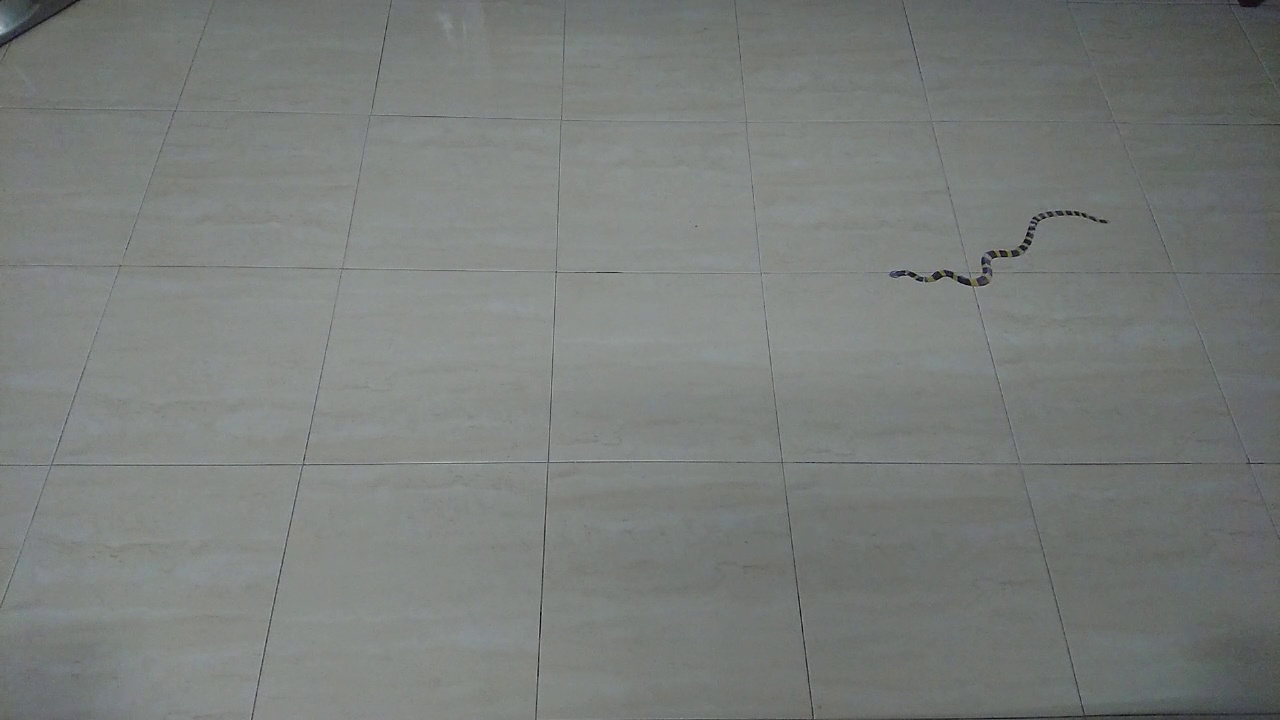snake: (881, 202, 1116, 297)
